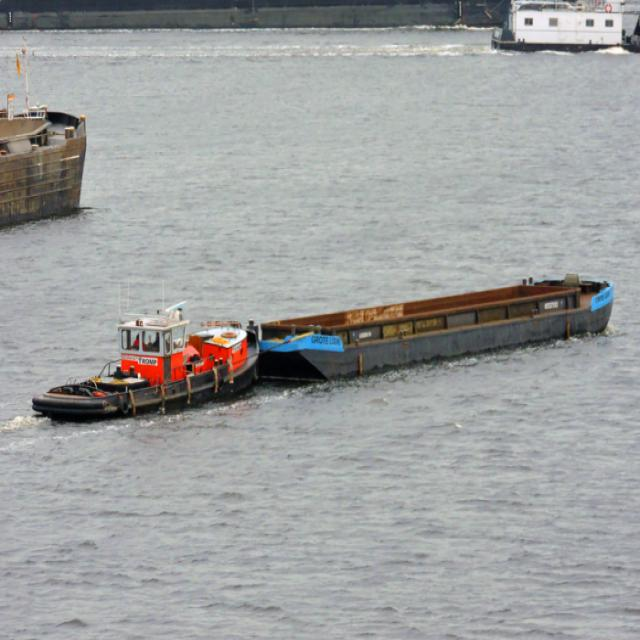tugboat: (27, 294, 263, 431), (487, 1, 640, 63)
